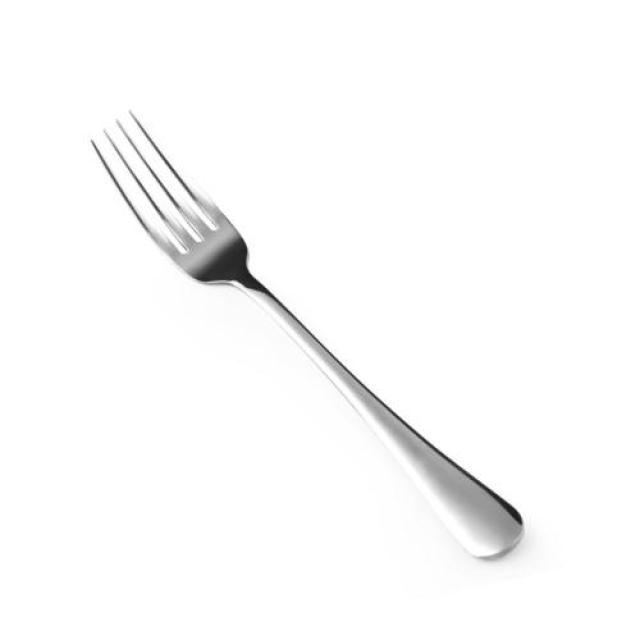spoon: (93, 114, 522, 557)
